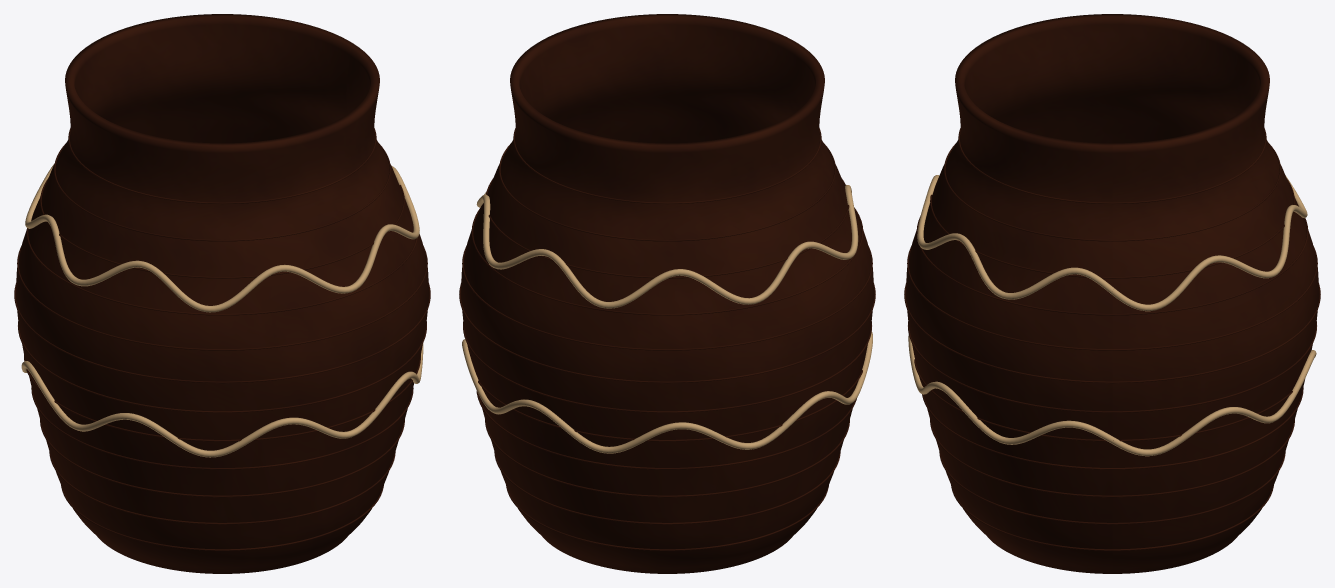
The model's file is bcm-1105.glb.
The picture shows the model from 3 angles, left to right: view 1: azimuth 30°, elevation 25°; view 2: azimuth 150°, elevation 25°; view 3: azimuth 270°, elevation 25°; orthographic projection.
Visible parts, largest first — view 1: Continuous hollow vessel with formed lip, Finger-drawn glaze motif (approximate); view 2: Continuous hollow vessel with formed lip, Finger-drawn glaze motif (approximate); view 3: Continuous hollow vessel with formed lip, Finger-drawn glaze motif (approximate).
Boxes of the visible parts, x1,y1,x2,y2 form: Continuous hollow vessel with formed lip: (14,14,430,573); Finger-drawn glaze motif (approximate): (21,163,423,457); Continuous hollow vessel with formed lip: (459,14,875,573); Finger-drawn glaze motif (approximate): (462,185,872,453); Continuous hollow vessel with formed lip: (904,14,1320,573); Finger-drawn glaze motif (approximate): (908,175,1316,456).
Bounding box in the file's own units: 0.8464 × 0.98 × 0.8464.
